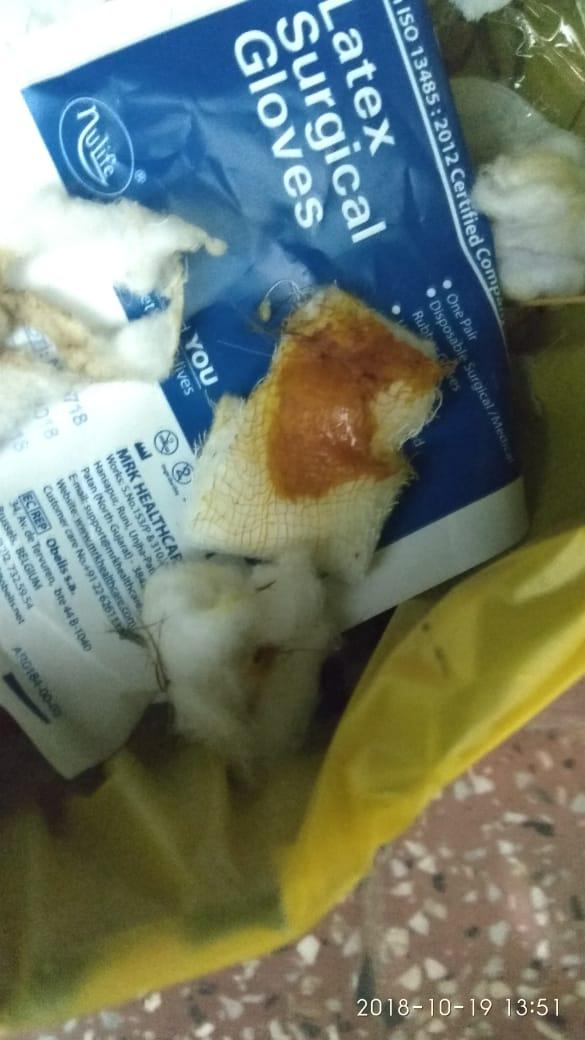waste: (48, 134, 464, 918)
